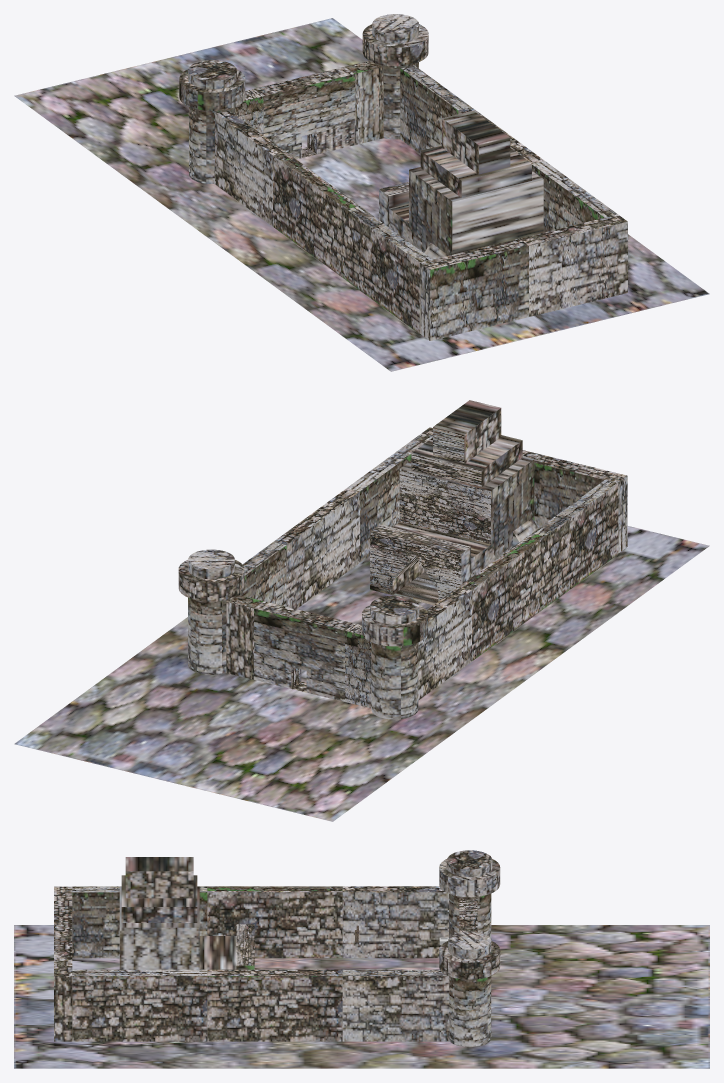
Rendered from castle.glb.
3 renders of one model, top to bottom at view 1: azimuth 30°, elevation 25°; view 2: azimuth 150°, elevation 25°; view 3: azimuth 270°, elevation 25°, orthographic. The views are drawn at different scales.
Visible parts, largest first — view 1: Plane-col, Cube.009-col, Cube.010-col, Object-col, Cylinder.001-col, Cylinder-col, Cube-col; view 2: Plane-col, Cube.009-col, Cube.010-col, Object-col, Cylinder.001-col, Cylinder-col, Cube-col; view 3: Plane-col, Cube.009-col, Cube.010-col, Cylinder-col, Cylinder.001-col, Object-col.
Part boxes in pixels (bbox=[...]): Plane-col: bbox=[14, 18, 709, 371]; Cube.009-col: bbox=[215, 60, 627, 340]; Cube.010-col: bbox=[379, 110, 543, 259]; Object-col: bbox=[254, 67, 355, 159]; Cylinder.001-col: bbox=[179, 60, 245, 183]; Cylinder-col: bbox=[362, 14, 428, 139]; Cube-col: bbox=[236, 89, 263, 135]; Plane-col: bbox=[14, 526, 709, 821]; Cube.009-col: bbox=[226, 427, 627, 700]; Cube.010-col: bbox=[370, 400, 538, 604]; Object-col: bbox=[254, 601, 354, 701]; Cylinder.001-col: bbox=[362, 595, 427, 719]; Cylinder-col: bbox=[178, 549, 244, 674]; Cube-col: bbox=[345, 623, 371, 708]; Plane-col: bbox=[14, 925, 709, 1068]; Cube.009-col: bbox=[54, 886, 449, 1041]; Cube.010-col: bbox=[119, 857, 254, 969]; Cylinder-col: bbox=[439, 931, 500, 1047]; Cylinder.001-col: bbox=[439, 850, 500, 939]; Object-col: bbox=[459, 910, 477, 932].
Bounding box in the file's own units: 137 × 60.1 × 281.
5 materials, 4 textured.
